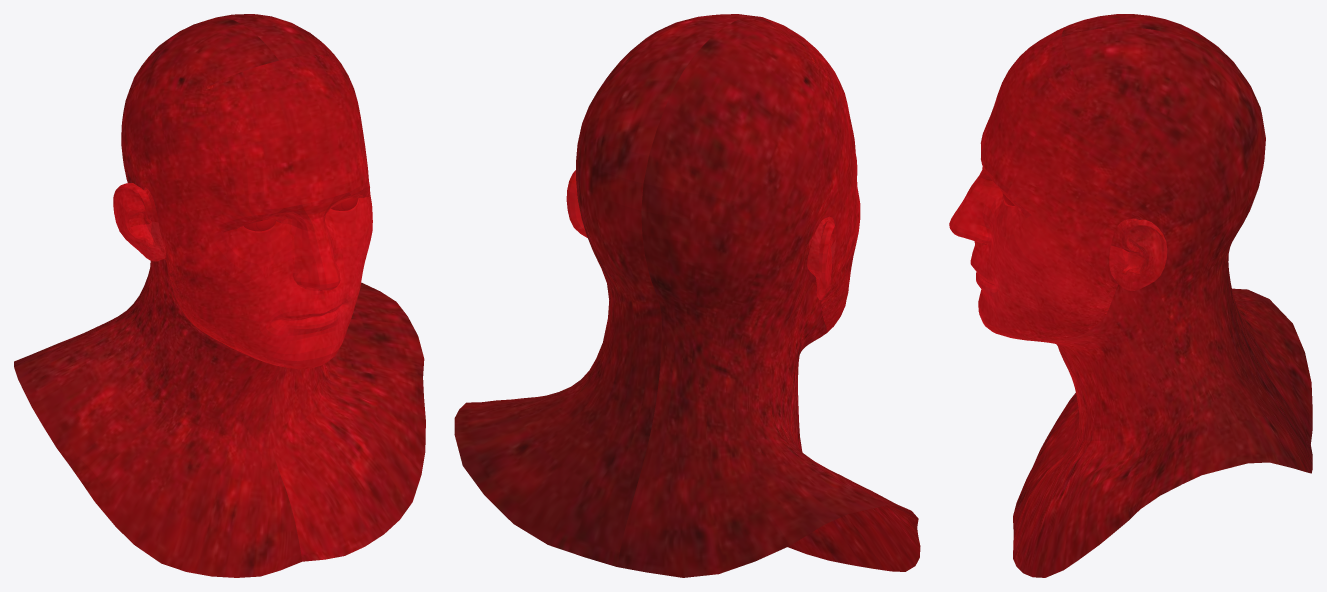
The model's file is headman.gltf.
3 renders of one model, left to right at view 1: azimuth 30°, elevation 25°; view 2: azimuth 150°, elevation 25°; view 3: azimuth 270°, elevation 25°, orthographic. The views are drawn at different scales.
Visible parts, largest first — view 1: Head_male; view 2: Head_male; view 3: Head_male.
Part boxes in pixels (bbox=[...]): Head_male: bbox=[14, 14, 425, 577]; Head_male: bbox=[454, 14, 920, 577]; Head_male: bbox=[949, 14, 1312, 577].
Bounding box in the file's own units: 0.3071 × 0.389 × 0.2513.
Materials: 1 (1 with a texture image).
